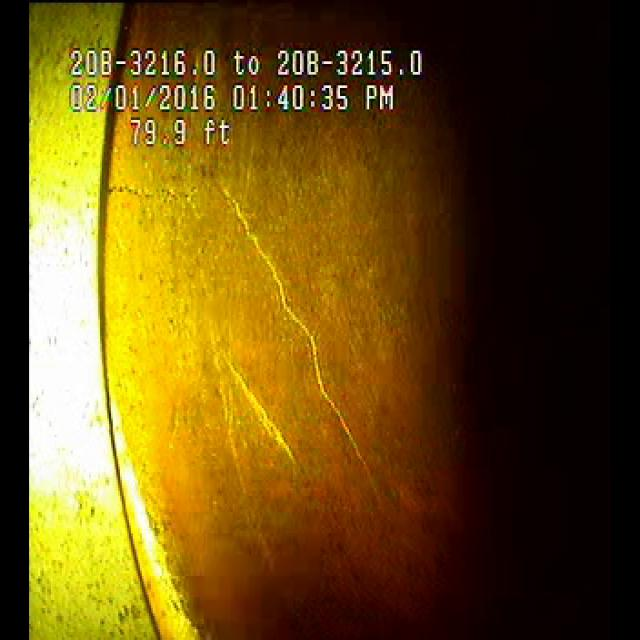Crack: (93, 157, 424, 508)
